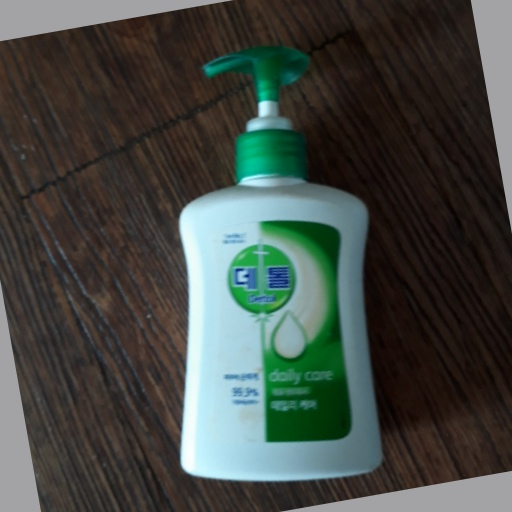Plastic_3: (172, 50, 385, 481)
